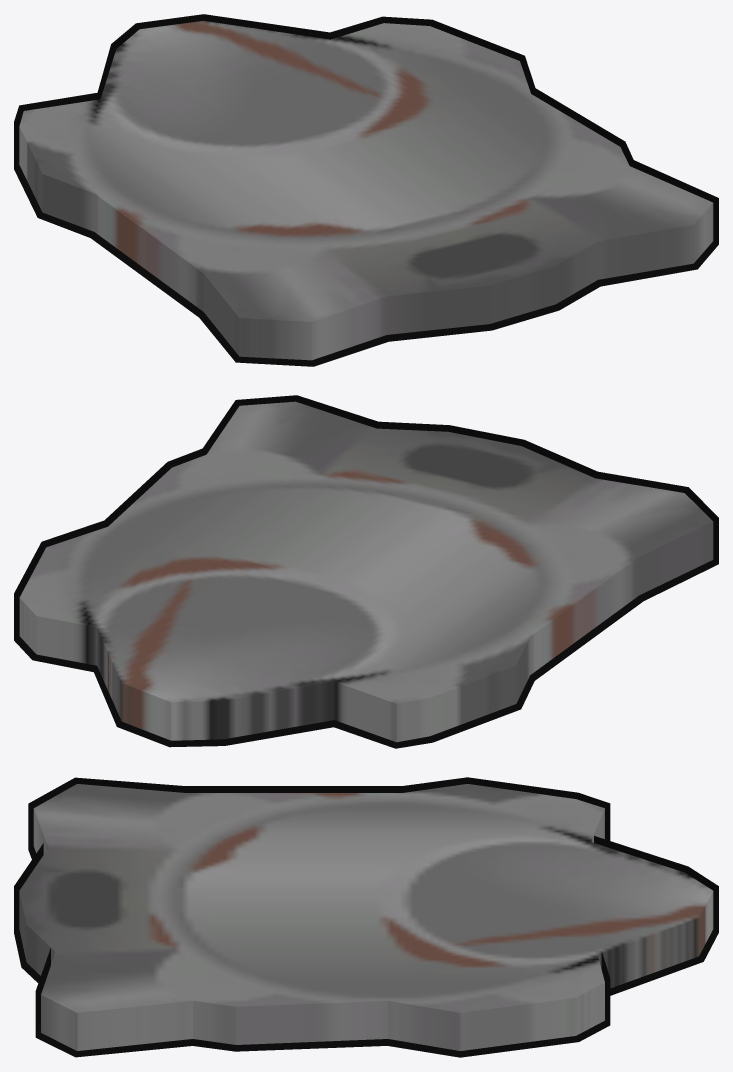
The model's file is Item_ActiveDropPodAncient_Things_Building_AncientLaunchPod_AncientLaunchPodB.glb.
3 views of the same model, one above another, from view 1: azimuth 30°, elevation 25°; view 2: azimuth 150°, elevation 25°; view 3: azimuth 270°, elevation 25° (orthographic).
Parts seen in each view (by area): view 1: Body, Outline; view 2: Body, Outline; view 3: Body, Outline.
Part boxes in pixels (x1,y1,x2,y2): Body: (19, 20, 713, 360); Outline: (14, 14, 718, 366); Body: (19, 401, 713, 742); Outline: (14, 395, 718, 748); Body: (19, 784, 713, 1050); Outline: (14, 777, 718, 1057).
Bounding box in the file's own units: 0.5979 × 0.0587 × 0.7618.
Materials: 2 (1 with a texture image).
